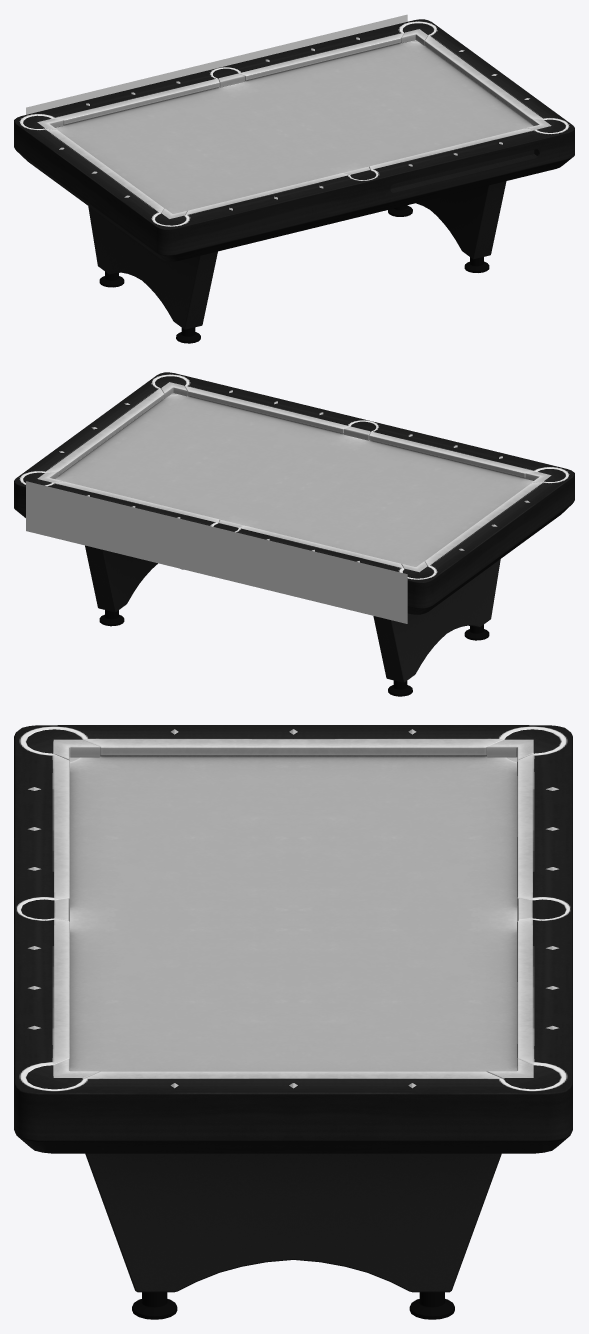
Rendered from tabletop.fbx.
The picture shows the model from 3 angles, top to bottom: view 1: azimuth 30°, elevation 25°; view 2: azimuth 150°, elevation 25°; view 3: azimuth 270°, elevation 25°; orthographic projection. The views are drawn at different scales.
Parts seen in each view (by area): view 1: table, score, 4ball_fillers; view 2: table, score, 4ball_fillers; view 3: table, 4ball_fillers.
Boxes of the visible parts, x1=… form: table: x1=14, y1=19, x2=574, y2=343; score: x1=26, y1=14, x2=407, y2=114; 4ball_fillers: x1=23, y1=23, x2=565, y2=225; table: x1=14, y1=372, x2=574, y2=696; score: x1=26, y1=481, x2=407, y2=623; 4ball_fillers: x1=23, y1=376, x2=565, y2=578; table: x1=14, y1=725, x2=572, y2=1319; 4ball_fillers: x1=21, y1=729, x2=565, y2=1089.
Bounding box in the file's own units: 250 × 90.02 × 161.
